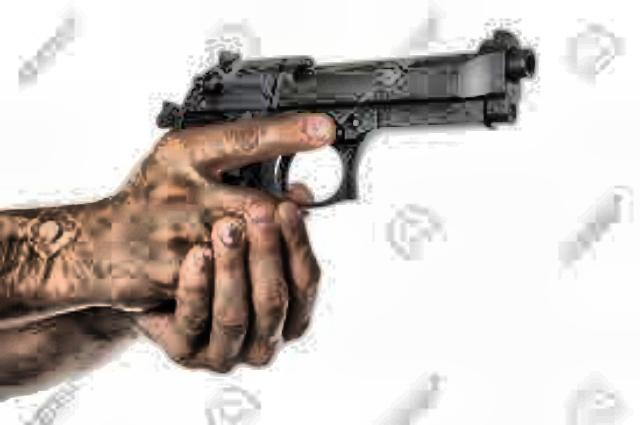pistol: (153, 26, 532, 202)
